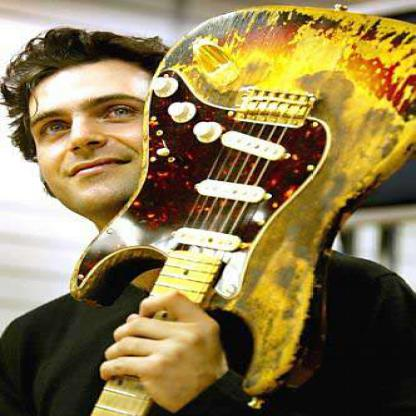face: (12, 43, 193, 220)
